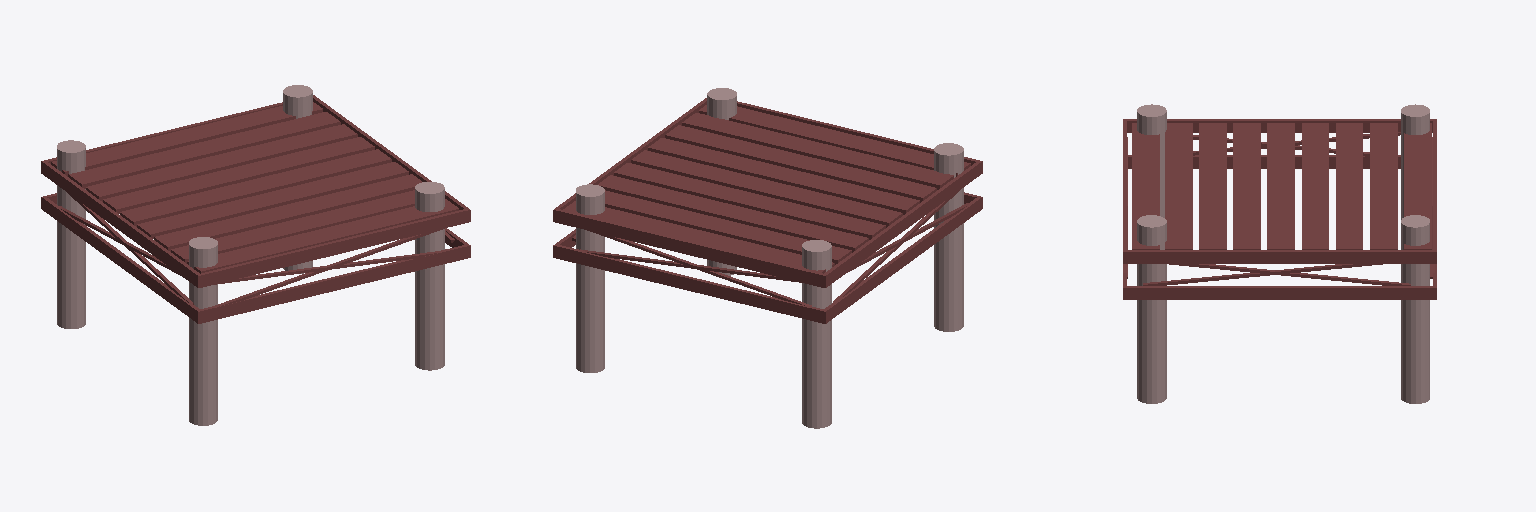
Rendered from jetty.obj.
The picture shows the model from 3 angles: view 1: azimuth 30°, elevation 25°; view 2: azimuth 150°, elevation 25°; view 3: azimuth 270°, elevation 25°; orthographic projection.
Visible parts, largest first — view 1: Cylinder04, Rectangle01, Rectangle02, Box08, Box06, Box04, Box05, Box07, Box03, Box09, Box01, Box02 (+1 smaller); view 2: Cylinder04, Rectangle01, Rectangle02, Box04, Box05, Box06, Box03, Box02, Box07, Box08, Box01, Line05 (+1 smaller); view 3: Cylinder04, Rectangle01, Rectangle02, Box03, Box04, Box05, Box08, Box02, Box06, Box07, Box01, Line05 (+1 smaller).
Part boxes in pixels (left/top/right/bottom): Cylinder04: left=57, top=85, right=444, bottom=425; Rectangle01: left=41, top=95, right=470, bottom=287; Rectangle02: left=41, top=193, right=470, bottom=323; Box08: left=68, top=112, right=340, bottom=188; Box06: left=103, top=137, right=374, bottom=213; Box04: left=137, top=162, right=408, bottom=238; Box05: left=120, top=149, right=391, bottom=226; Box07: left=86, top=124, right=357, bottom=201; Box03: left=154, top=174, right=421, bottom=251; Box09: left=51, top=102, right=322, bottom=176; Box01: left=187, top=199, right=458, bottom=273; Box02: left=171, top=190, right=414, bottom=263; Cylinder04: left=576, top=88, right=963, bottom=428; Rectangle01: left=553, top=98, right=982, bottom=287; Rectangle02: left=553, top=192, right=982, bottom=323; Box04: left=648, top=138, right=919, bottom=214; Box05: left=631, top=150, right=902, bottom=227; Box06: left=614, top=163, right=885, bottom=239; Box03: left=665, top=125, right=936, bottom=202; Box02: left=682, top=113, right=953, bottom=189; Box07: left=598, top=175, right=868, bottom=252; Box08: left=605, top=190, right=851, bottom=264; Box01: left=699, top=105, right=970, bottom=176; Line05: left=572, top=190, right=968, bottom=305; Cylinder04: left=1137, top=104, right=1429, bottom=403; Rectangle01: left=1123, top=119, right=1436, bottom=263; Rectangle02: left=1123, top=155, right=1436, bottom=299; Box03: left=1199, top=123, right=1226, bottom=249; Box04: left=1233, top=123, right=1260, bottom=249; Box05: left=1267, top=123, right=1294, bottom=249; Box08: left=1370, top=123, right=1397, bottom=249; Box02: left=1165, top=123, right=1192, bottom=249; Box06: left=1302, top=123, right=1328, bottom=249; Box07: left=1336, top=123, right=1362, bottom=249; Box01: left=1132, top=123, right=1159, bottom=249; Line05: left=1123, top=132, right=1434, bottom=285.
Bounding box in the file's own units: 39.93 × 24.74 × 39.93.